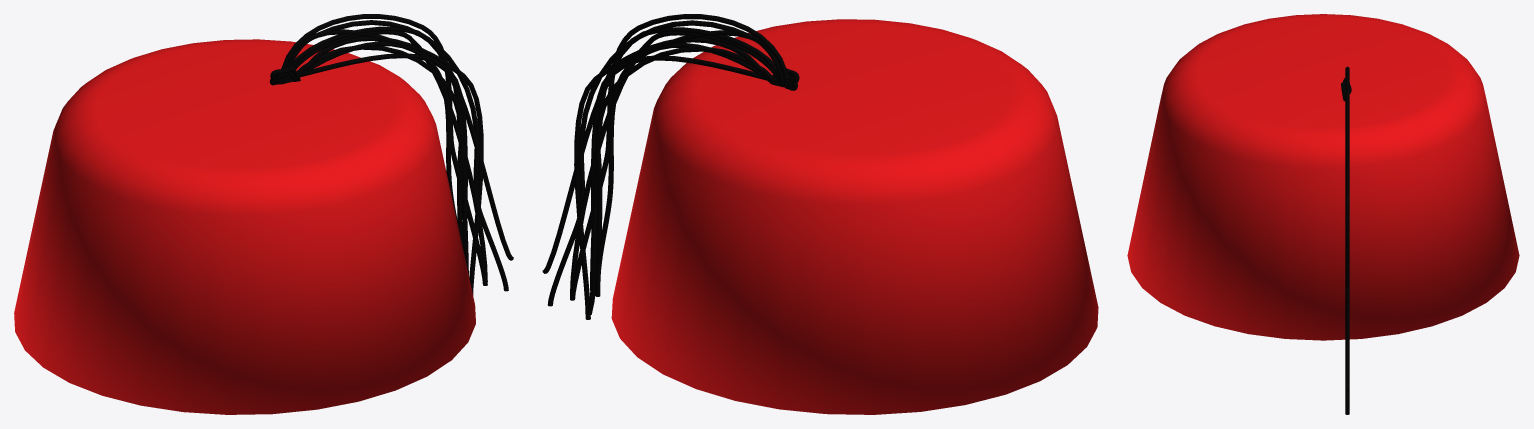
The model's file is MoroccanHat.fbx.
The picture shows the model from 3 angles, left to right: view 1: azimuth 30°, elevation 25°; view 2: azimuth 150°, elevation 25°; view 3: azimuth 270°, elevation 25°; orthographic projection. The views are drawn at different scales.
Visible parts, largest first — view 1: BezierCurve.001; view 2: BezierCurve.001; view 3: BezierCurve.001.
Boxes of the visible parts, left/top/right/bottom form: BezierCurve.001: left=14, top=14, right=513, bottom=414; BezierCurve.001: left=542, top=14, right=1098, bottom=414; BezierCurve.001: left=1127, top=14, right=1519, bottom=414.
Size of the model in its own units: 113 by 70.51 by 91.73.
